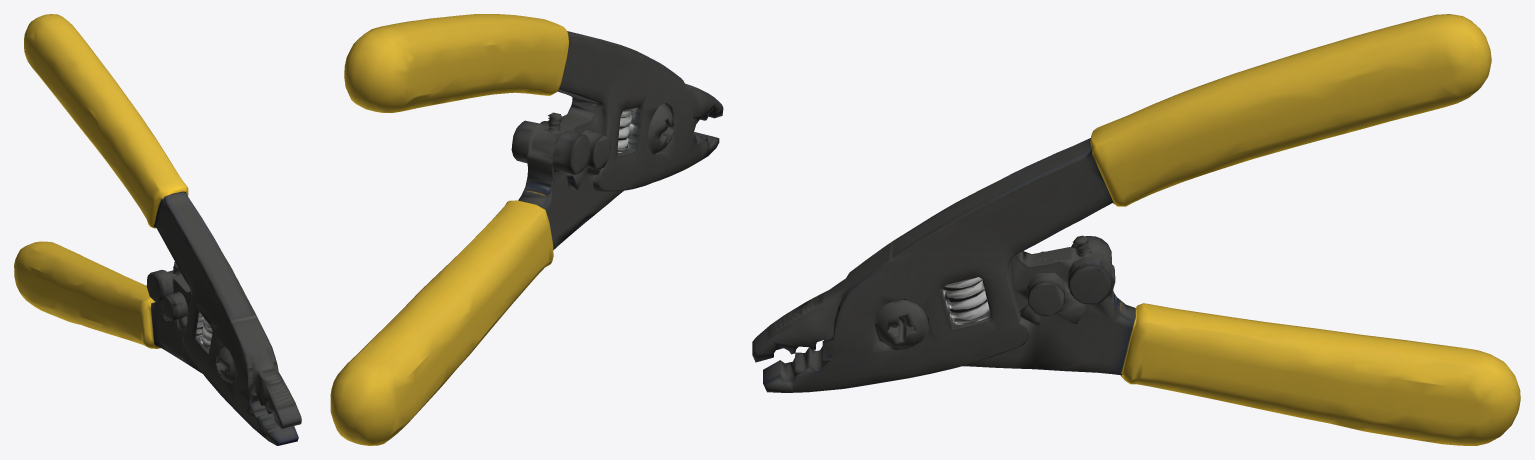
Rendered from miller-pliers.glb.
The picture shows the model from 3 angles, left to right: view 1: azimuth 30°, elevation 25°; view 2: azimuth 150°, elevation 25°; view 3: azimuth 270°, elevation 25°; orthographic projection. The views are drawn at different scales.
Visible parts, largest first — view 1: tripo_node_e68e9f97-83bf-4b23-b2fc-a191e50ca224; view 2: tripo_node_e68e9f97-83bf-4b23-b2fc-a191e50ca224; view 3: tripo_node_e68e9f97-83bf-4b23-b2fc-a191e50ca224.
Boxes of the visible parts, x1=… form: tripo_node_e68e9f97-83bf-4b23-b2fc-a191e50ca224: x1=14, y1=14, x2=301, y2=445; tripo_node_e68e9f97-83bf-4b23-b2fc-a191e50ca224: x1=330, y1=14, x2=723, y2=445; tripo_node_e68e9f97-83bf-4b23-b2fc-a191e50ca224: x1=752, y1=14, x2=1520, y2=445.
Bounding box in the file's own units: 0.097 × 0.5935 × 0.9794.
1 material, 1 textured.
